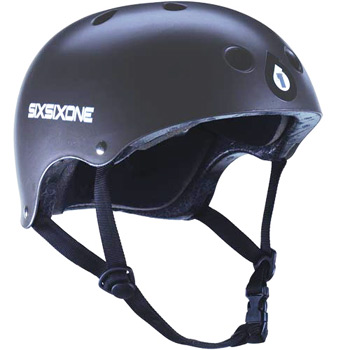helmet: (10, 10, 325, 201)
